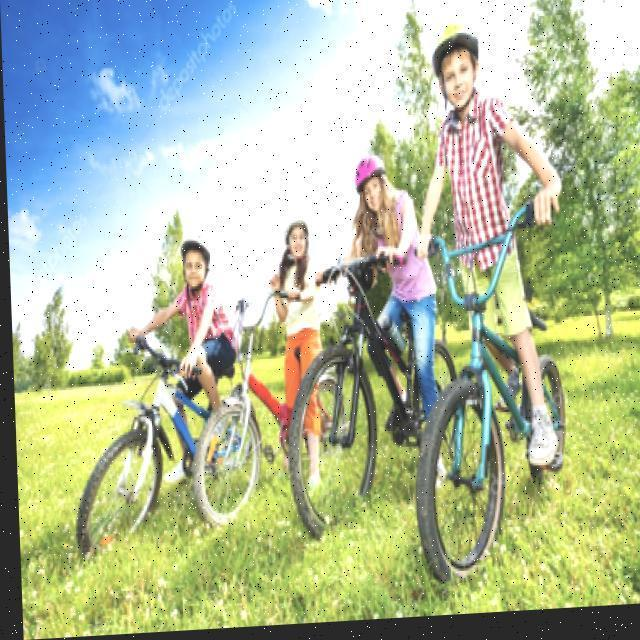Helmet: (425, 26, 484, 117), (348, 160, 390, 222), (172, 232, 214, 294), (276, 216, 312, 266)
